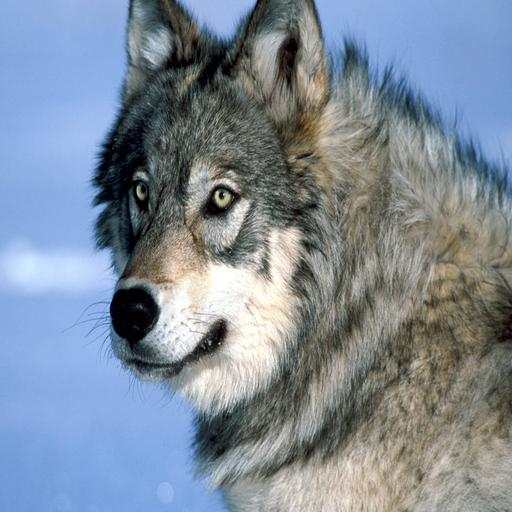Wolf: (92, 0, 512, 508)
